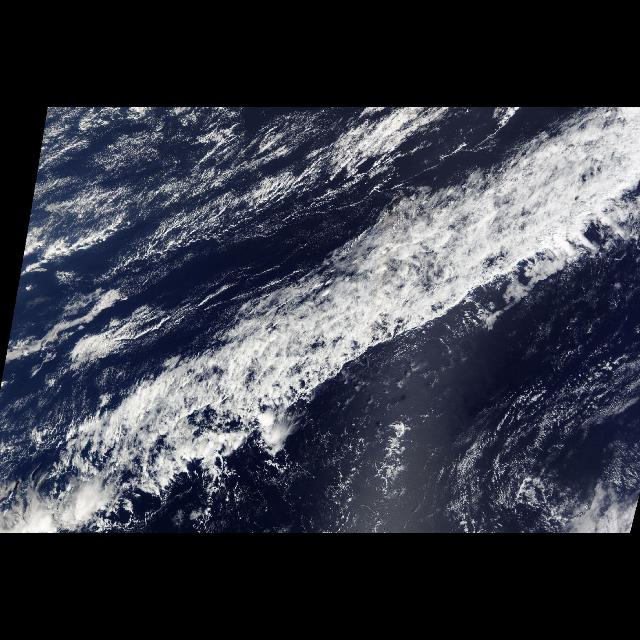Fish: (20, 112, 632, 530)
Gravel: (39, 114, 452, 386)
Sugar: (36, 108, 324, 278)
